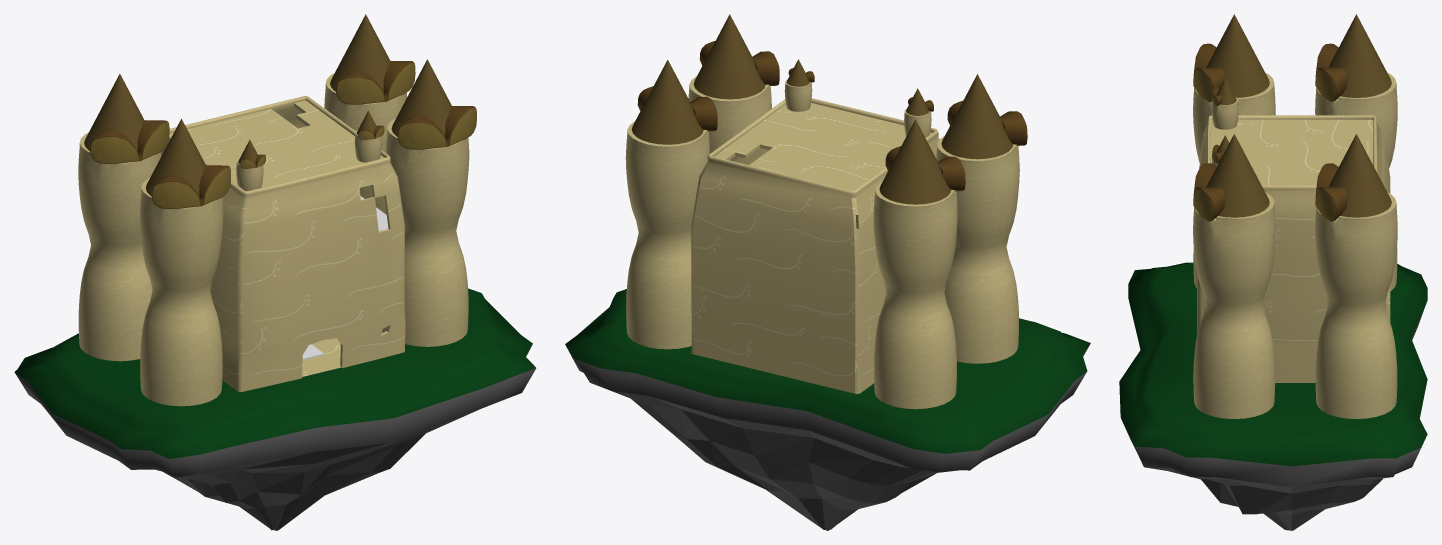
The model's file is CastilloVolador2.FBX.
The picture shows the model from 3 angles, left to right: view 1: azimuth 30°, elevation 25°; view 2: azimuth 150°, elevation 25°; view 3: azimuth 270°, elevation 25°; orthographic projection.
Visible parts, largest first — view 1: Castillo, Box024, Esrtuctura, Cone002, Cone003, Cone006, Cone007, Torre002, Torre003; view 2: Box024, Esrtuctura, Castillo, Cone006, Cone003, Cone007, Cone002, Torre002; view 3: Castillo, Box024, Esrtuctura, Cone003, Cone007, Cone006, Cone002, Torre003.
Part boxes in pixels (x1,y1,x2,y2): Castillo: [78, 61, 476, 406]; Box024: [14, 288, 536, 530]; Esrtuctura: [161, 96, 405, 391]; Cone002: [145, 119, 205, 196]; Cone003: [391, 59, 451, 136]; Cone006: [84, 74, 144, 150]; Cone007: [330, 14, 390, 91]; Torre002: [354, 125, 384, 162]; Torre003: [236, 154, 265, 190]; Box024: [565, 289, 1090, 530]; Esrtuctura: [691, 98, 939, 393]; Castillo: [625, 41, 1027, 409]; Cone006: [879, 119, 951, 204]; Cone003: [693, 14, 765, 99]; Cone007: [631, 60, 703, 144]; Cone002: [941, 74, 1013, 159]; Torre002: [784, 68, 814, 111]; Castillo: [1193, 43, 1397, 418]; Box024: [1119, 262, 1427, 530]; Esrtuctura: [1197, 115, 1390, 382]; Cone003: [1206, 134, 1269, 217]; Cone007: [1329, 134, 1391, 217]; Cone006: [1328, 14, 1391, 97]; Cone002: [1206, 14, 1269, 97]; Torre003: [1212, 87, 1238, 129].
Size of the model in its own units: 160 by 162 by 99.05.
6 materials, 1 textured.
